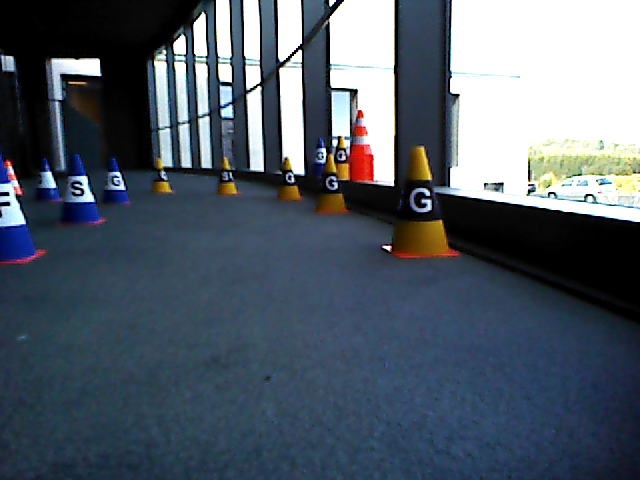bluecone: (63, 155, 101, 221), (105, 159, 130, 201), (36, 159, 58, 198)
yellowcone: (392, 147, 449, 252), (318, 155, 345, 209), (278, 158, 301, 197), (218, 158, 236, 192), (153, 158, 171, 191)
